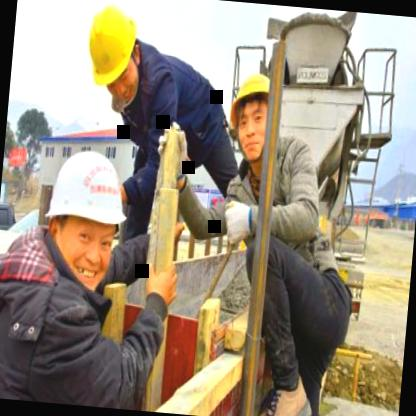helmet: (33, 136, 134, 289), (74, 0, 148, 116), (222, 62, 280, 164)
